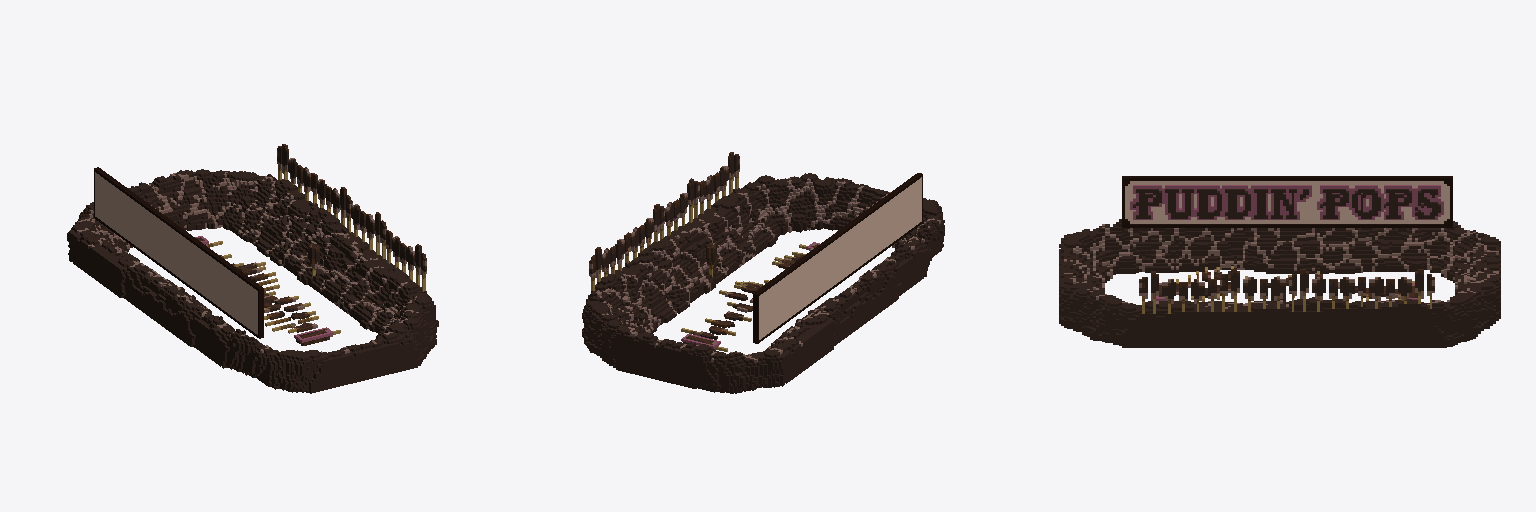
3 renders of one model, left to right at view 1: azimuth 30°, elevation 25°; view 2: azimuth 150°, elevation 25°; view 3: azimuth 270°, elevation 25°, orthographic.
Size of the model in its own units: 81 by 33 by 154.
10 materials, 3 textured.